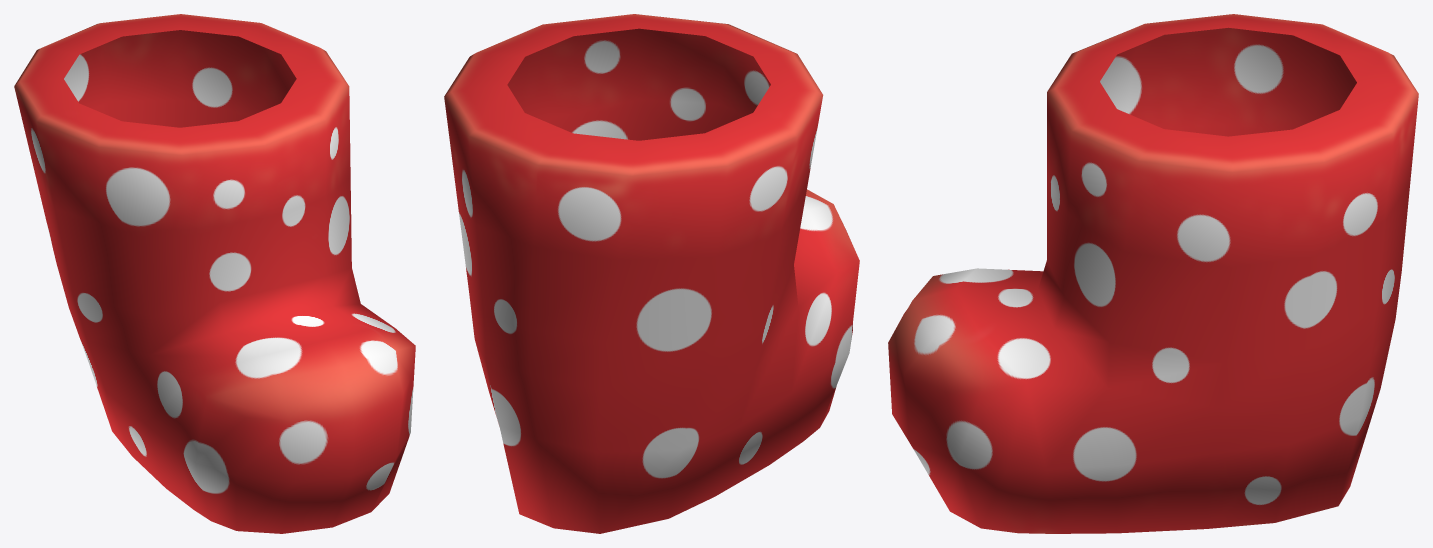
Rendered from ShroomShoeRIGHT.fbx.
3 views of the same model, side by side, from view 1: azimuth 30°, elevation 25°; view 2: azimuth 150°, elevation 25°; view 3: azimuth 270°, elevation 25° (orthographic). The views are drawn at different scales.
Parts seen in each view (by area): view 1: mushroomshoeRIGHT; view 2: mushroomshoeRIGHT; view 3: mushroomshoeRIGHT.
Part boxes in pixels (x1,y1,x2,y2): mushroomshoeRIGHT: (14, 14, 415, 533); mushroomshoeRIGHT: (444, 14, 859, 533); mushroomshoeRIGHT: (888, 14, 1418, 533).
Size of the model in its own units: 56.21 by 66.5 by 80.78.
